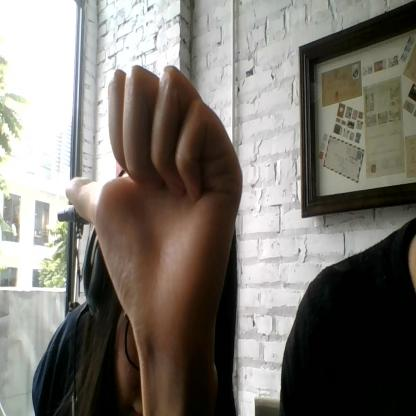right: (67, 69, 243, 323)
